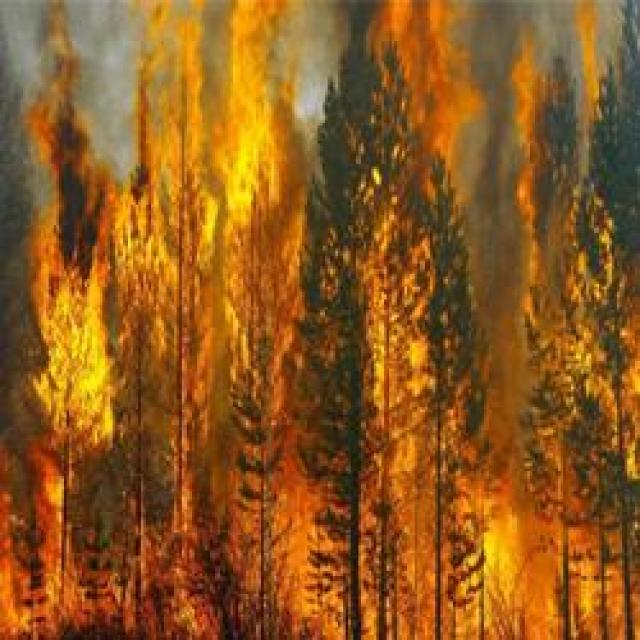fire: (486, 519, 556, 640), (48, 306, 104, 402), (223, 103, 269, 206)
smoke: (464, 137, 513, 266), (471, 10, 511, 105)
